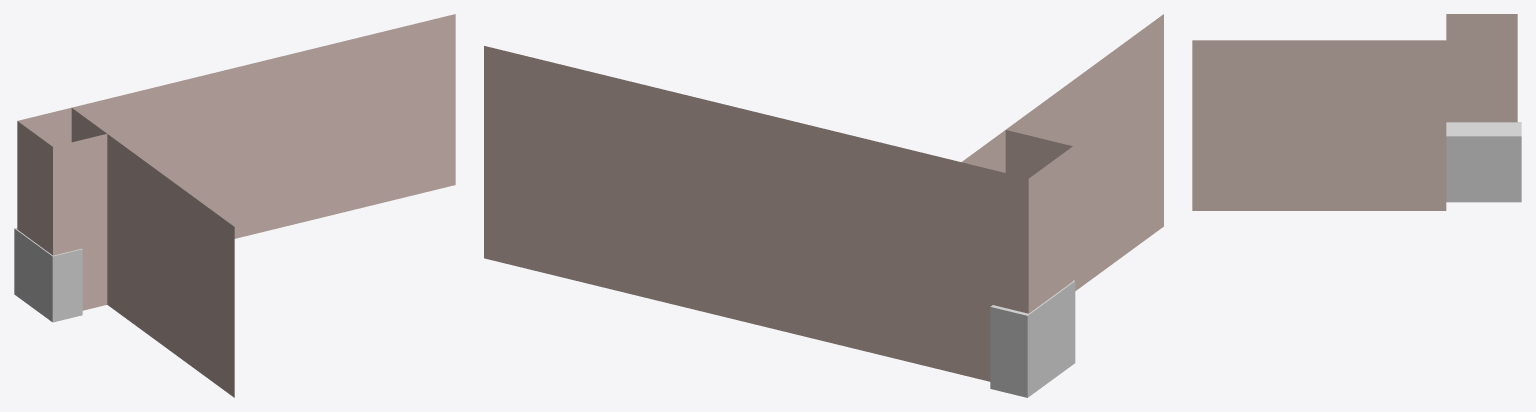
Rendered from bookshelf_Walls.fbx.
3 renders of one model, left to right at view 1: azimuth 30°, elevation 25°; view 2: azimuth 150°, elevation 25°; view 3: azimuth 270°, elevation 25°, orthographic. The views are drawn at different scales.
Parts seen in each view (by area): view 1: wall.008, wall.002, Shelf, wall.039; view 2: wall.008, wall.002, Shelf, wall.039; view 3: wall.002, Shelf, wall.008, wall.039.
Boxes of the visible parts, x1=… form: wall.008: x1=17, y1=14, x2=455, y2=255; wall.002: x1=53, y1=134, x2=234, y2=397; Shelf: x1=14, y1=228, x2=82, y2=322; wall.039: x1=71, y1=108, x2=106, y2=142; wall.008: x1=484, y1=46, x2=1072, y2=381; wall.002: x1=1005, y1=14, x2=1163, y2=290; Shelf: x1=990, y1=280, x2=1075, y2=397; wall.039: x1=961, y1=130, x2=1005, y2=172; wall.002: x1=1192, y1=40, x2=1446, y2=210; Shelf: x1=1446, y1=122, x2=1521, y2=202; wall.008: x1=1446, y1=14, x2=1517, y2=122; wall.039: x1=1446, y1=40, x2=1517, y2=81.
Bounding box in the file's own units: 712 × 271 × 463.
